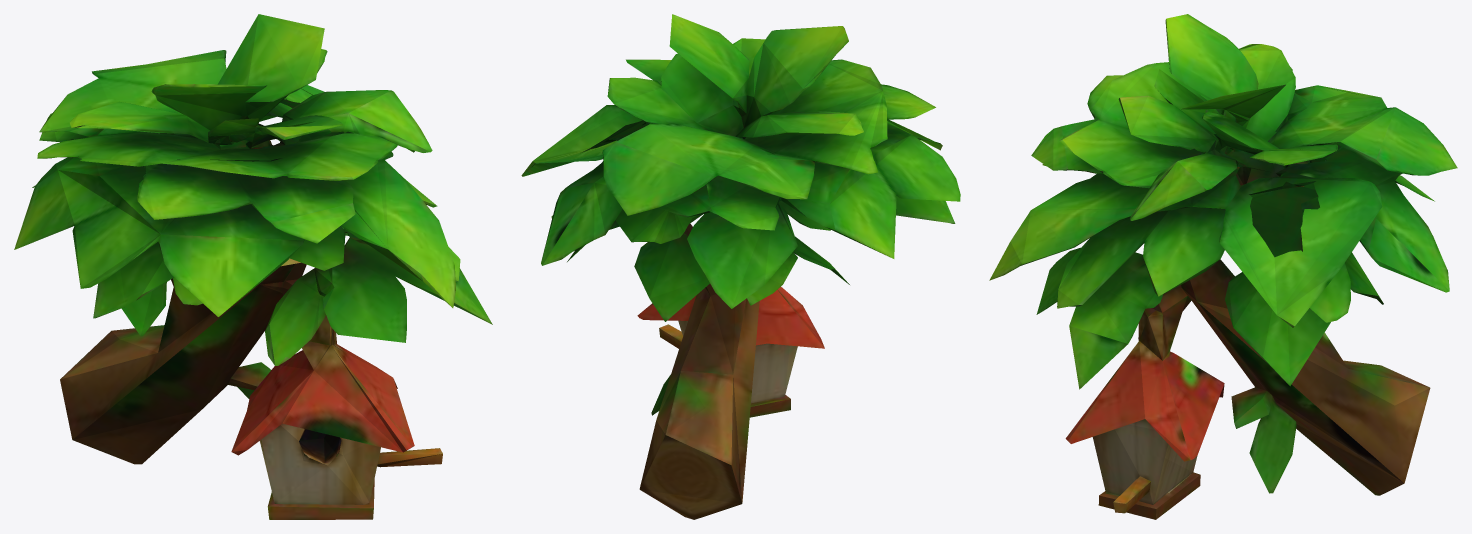
Rendered from d_canopee_feuillage.glb.
3 views of the same model, side by side, from view 1: azimuth 30°, elevation 25°; view 2: azimuth 150°, elevation 25°; view 3: azimuth 270°, elevation 25° (orthographic). The views are drawn at different scales.
Visible parts, largest first — view 1: geometry_0; view 2: geometry_0; view 3: geometry_0.
Boxes of the visible parts, x1,y1,x2,y2 form: geometry_0: (14, 14, 492, 519); geometry_0: (521, 14, 960, 519); geometry_0: (989, 14, 1457, 519).
Size of the model in its own units: 0.8992 by 1 by 0.9435.
Materials: 1 (1 with a texture image).
